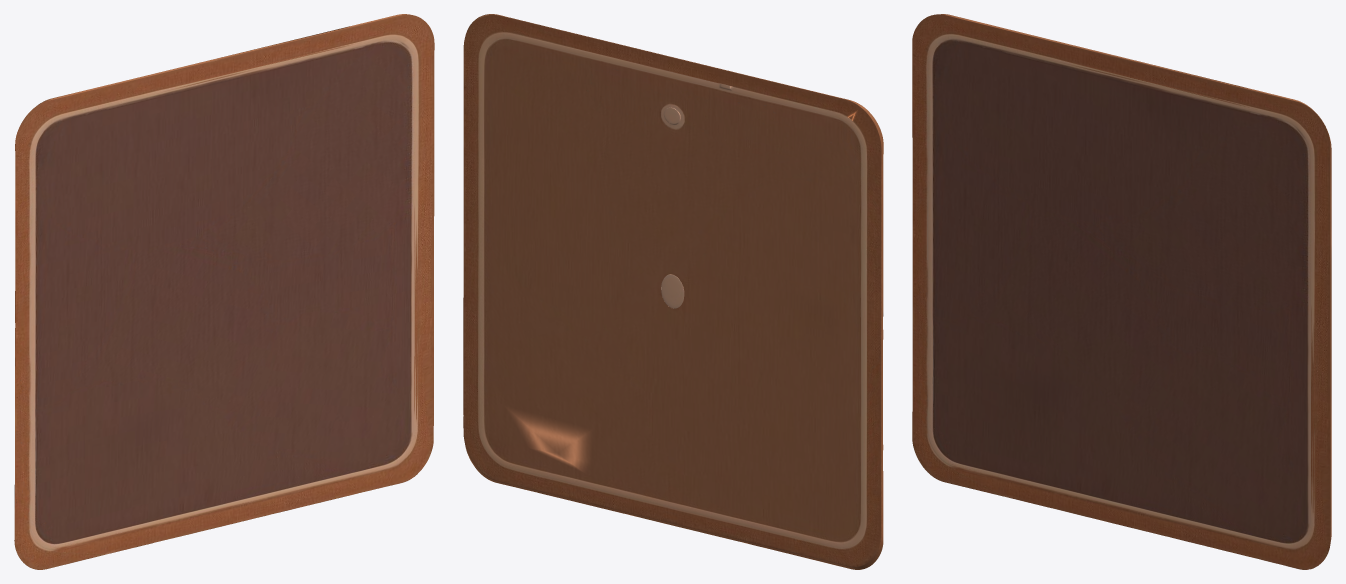
The model's file is vapour-chamber.glb.
3 views of the same model, side by side, from view 1: azimuth 30°, elevation 25°; view 2: azimuth 150°, elevation 25°; view 3: azimuth 330°, elevation 25° (orthographic).
Visible parts, largest first — view 1: vapour-chamber; view 2: vapour-chamber; view 3: vapour-chamber.
Boxes of the visible parts, x1,y1,x2,y2 form: vapour-chamber: [14, 14, 434, 569]; vapour-chamber: [463, 14, 883, 569]; vapour-chamber: [912, 14, 1331, 569].
Size of the model in its own units: 0.3867 by 0.4133 by 0.00333.
Materials: 1 (1 with a texture image).
